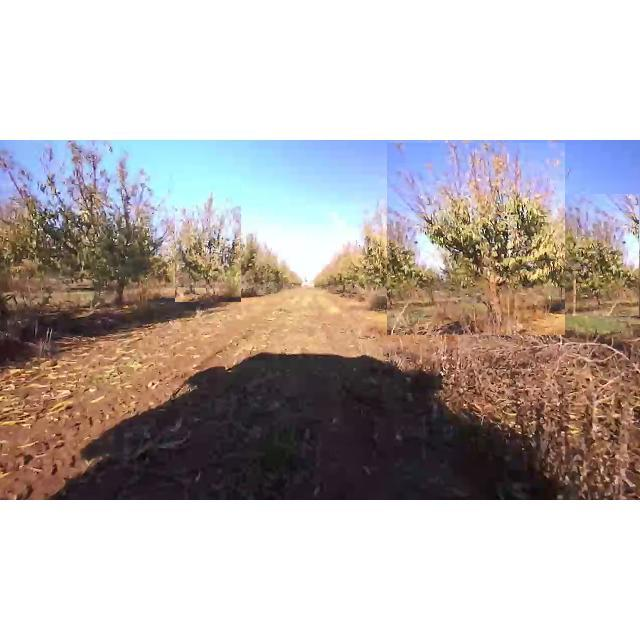tree: (387, 143, 565, 335), (1, 140, 179, 312), (521, 194, 639, 316), (175, 182, 241, 302), (364, 190, 416, 306)
